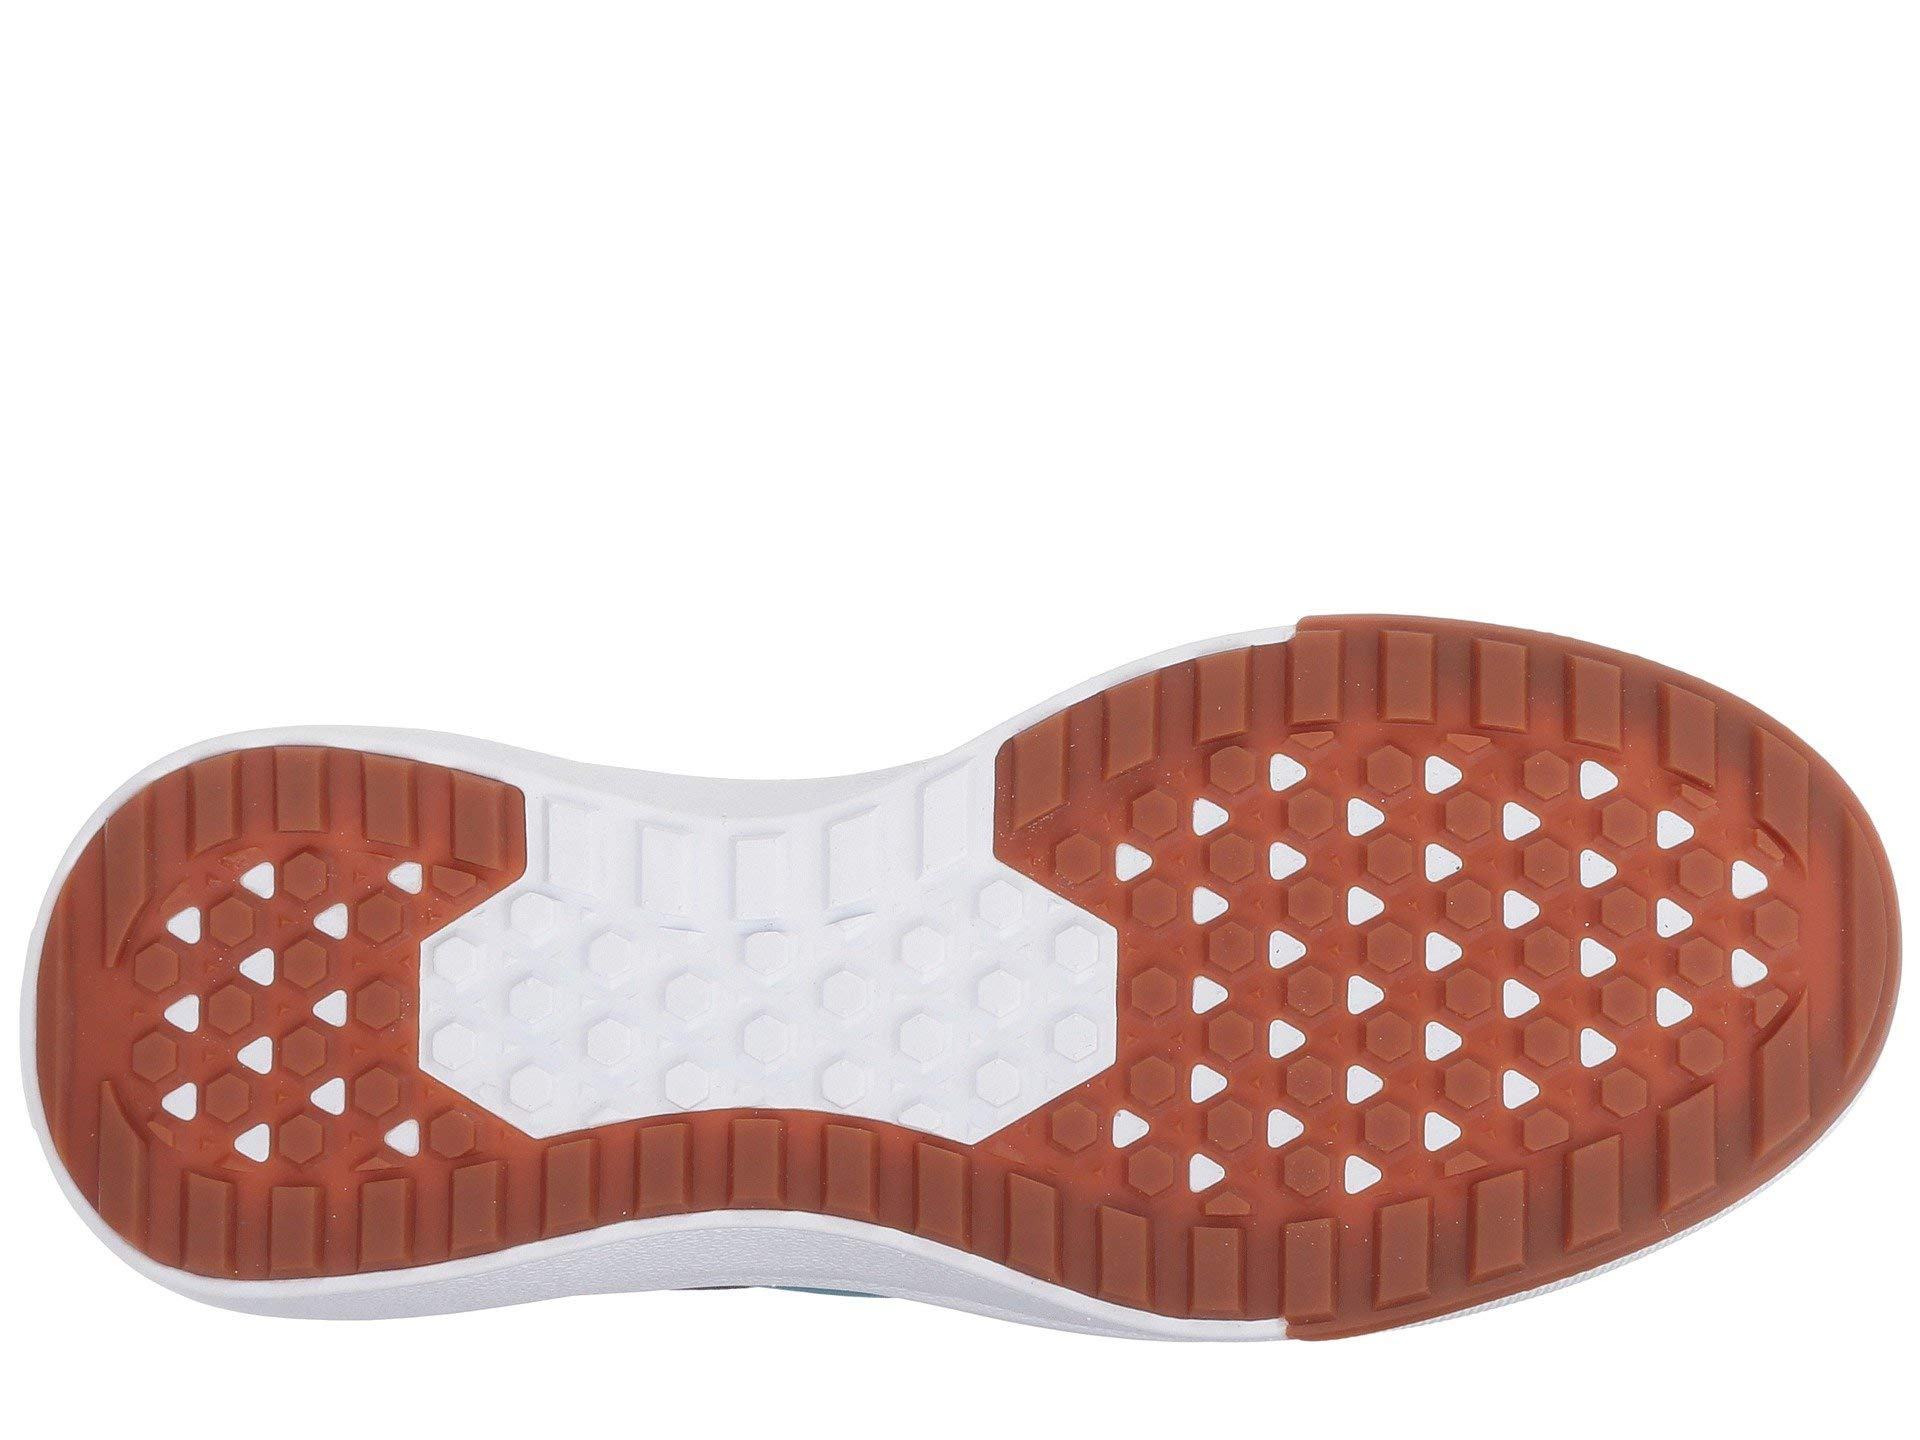line: (505, 1118, 1031, 1249)
polygon: (1175, 747, 1631, 1128), (132, 908, 431, 1145)
quad: (360, 740, 1008, 905), (505, 1118, 1031, 1249)
triangle: (1175, 747, 1631, 1128), (132, 908, 431, 1145)
